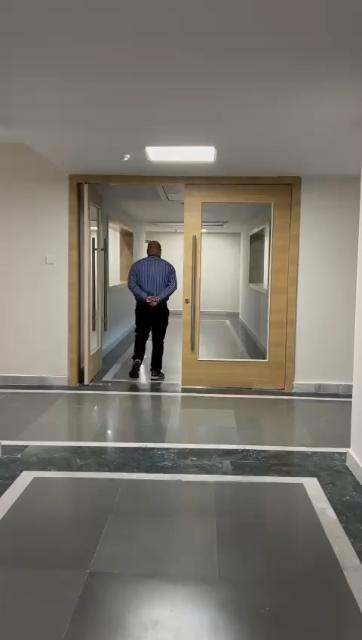door: (176, 178, 292, 388)
floor: (0, 390, 362, 640)
moving-obj: (103, 218, 193, 382)
wall: (0, 160, 68, 376), (296, 176, 362, 380)
